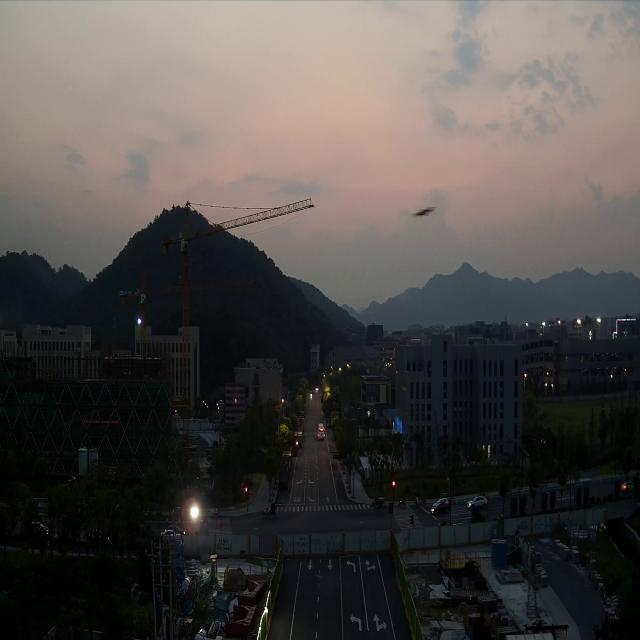UAV: (411, 205, 436, 219)
